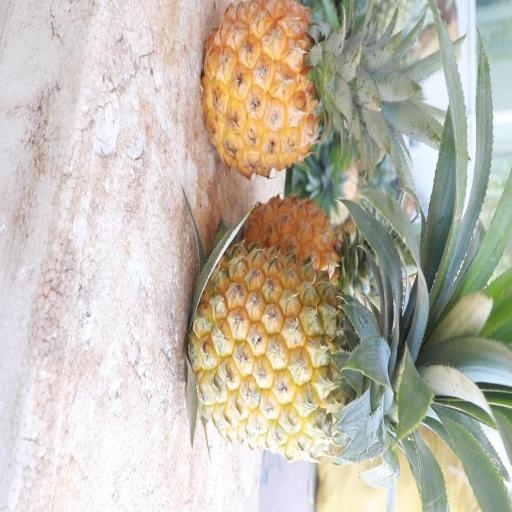Pineapple - v8 v1: (186, 239, 444, 465), (199, 0, 383, 176), (242, 191, 371, 294)
